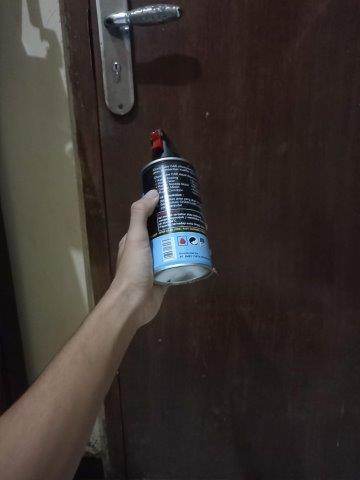kaleng: (141, 156, 212, 285)
